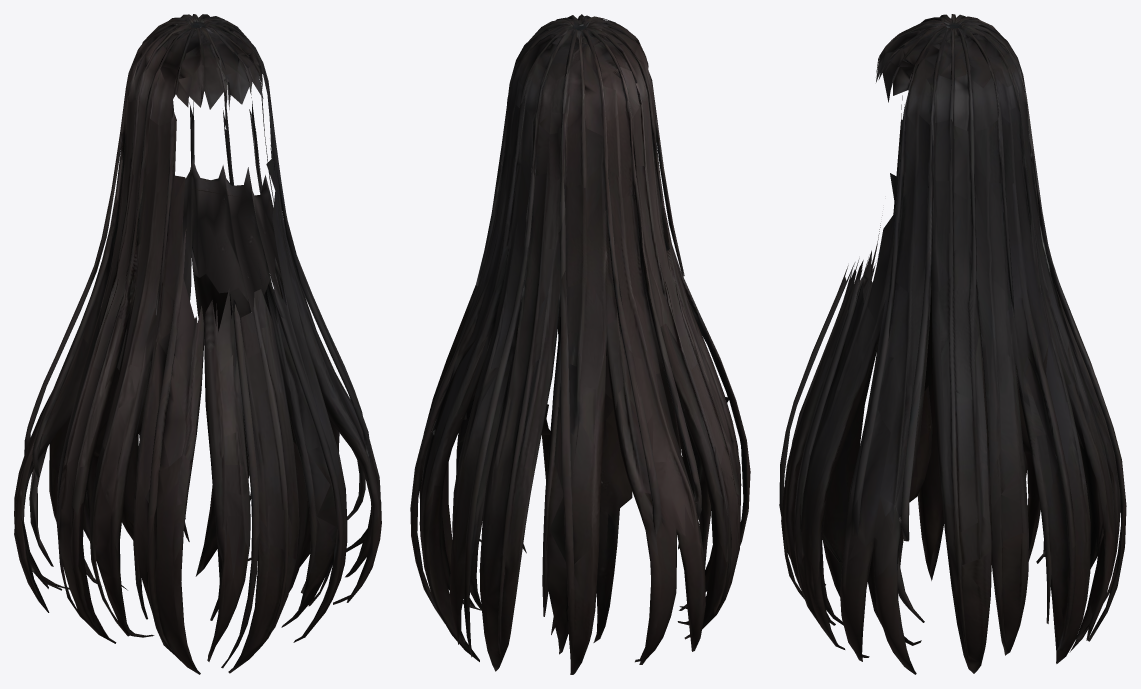
The model's file is pelo_largo.glb.
3 renders of one model, left to right at view 1: azimuth 30°, elevation 25°; view 2: azimuth 150°, elevation 25°; view 3: azimuth 270°, elevation 25°, orthographic. The views are drawn at different scales.
Parts seen in each view (by area): view 1: pelo_largo; view 2: pelo_largo; view 3: pelo_largo.
Part boxes in pixels (x1,y1,x2,y2): pelo_largo: (14,14,381,674); pelo_largo: (410,14,750,674); pelo_largo: (779,14,1126,674).
Bounding box in the file's own units: 0.5131 × 0.9771 × 0.4972.
1 material, 1 textured.
